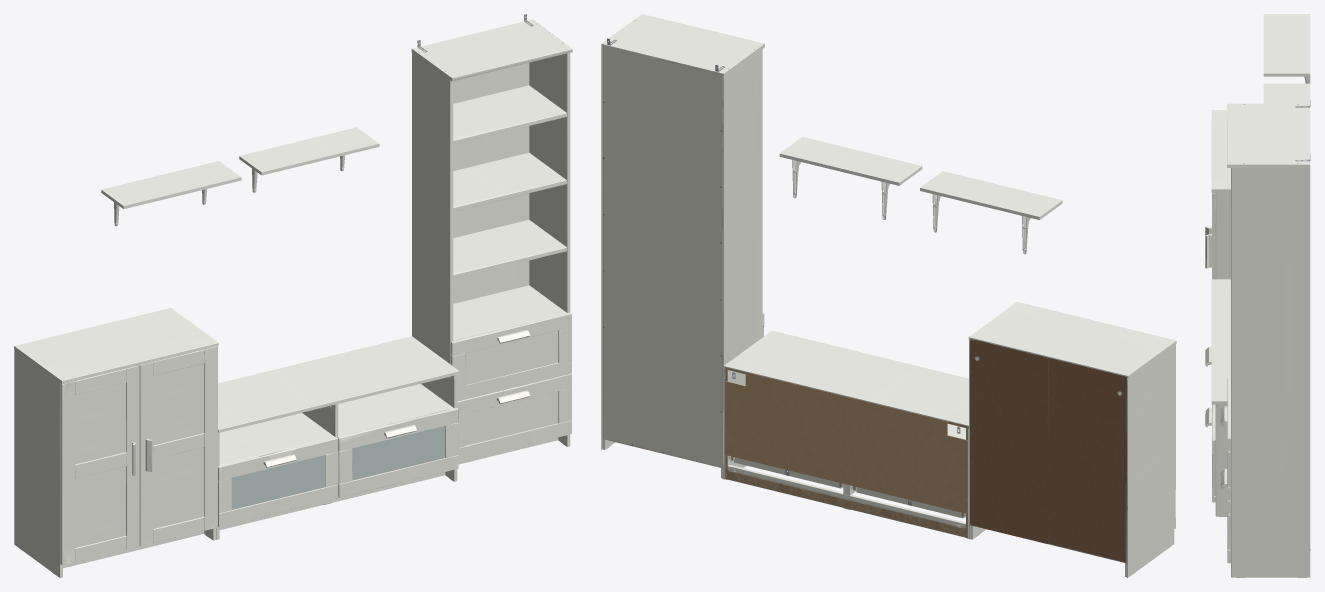
The model's file is brimnes_burhult_szafka_pod_tv_79398672.glb.
3 views of the same model, side by side, from view 1: azimuth 30°, elevation 25°; view 2: azimuth 150°, elevation 25°; view 3: azimuth 270°, elevation 25° (orthographic). The views are drawn at different scales.
Visible parts, largest first — view 1: brimnes_burhult_szafka_pod_tv_79398672; view 2: brimnes_burhult_szafka_pod_tv_79398672; view 3: brimnes_burhult_szafka_pod_tv_79398672.
Part boxes in pixels (bbox=[...]): brimnes_burhult_szafka_pod_tv_79398672: bbox=[14, 14, 572, 577]; brimnes_burhult_szafka_pod_tv_79398672: bbox=[601, 14, 1176, 577]; brimnes_burhult_szafka_pod_tv_79398672: bbox=[1205, 14, 1310, 577].
Size of the model in its own units: 2.58 by 1.93 by 0.4398.
Materials: 2 (2 with a texture image).
